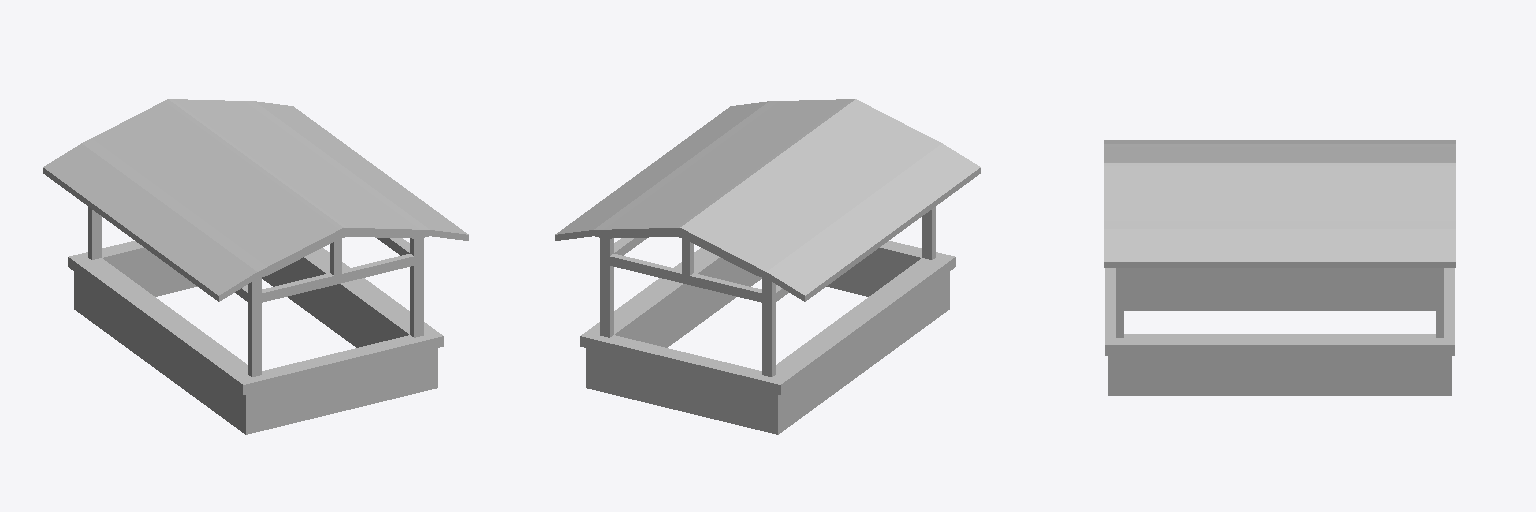
Rendered from hut.obj.
3 views of the same model, side by side, from view 1: azimuth 30°, elevation 25°; view 2: azimuth 150°, elevation 25°; view 3: azimuth 270°, elevation 25° (orthographic).
Visible parts, largest first — view 1: Cube; view 2: Cube; view 3: Cube.
Boxes of the visible parts, x1,y1,x2,y2 form: Cube: [43, 99, 468, 434]; Cube: [555, 99, 980, 434]; Cube: [1104, 140, 1455, 395].
Bounding box in the file's own units: 5.07 × 3.59 × 6.17.